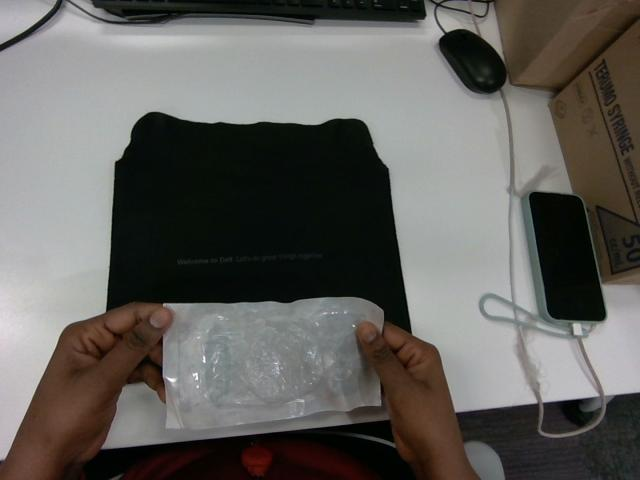gallipot: (163, 297, 382, 428)
